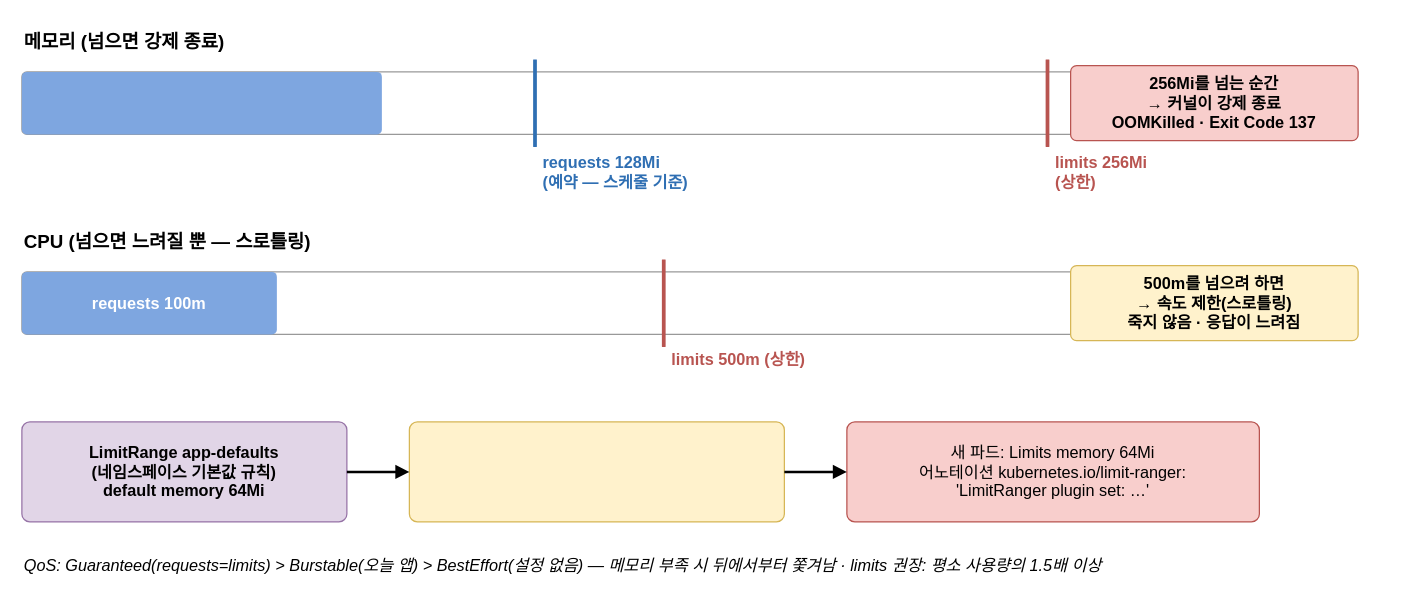
Some shapes in this 1419 by 605 pixel diagram are drawn without their labels. Here are the shapes that lost their labels. From the top down, the box of each, then its label:
(21, 71, 381, 134): 평소 사용 ≈ 90Mi
(408, 421, 784, 522): 파드가 만들어지는 순간(admission) resources가 비어 있는 컨테이너에 기본값을 자동으로 넣음
